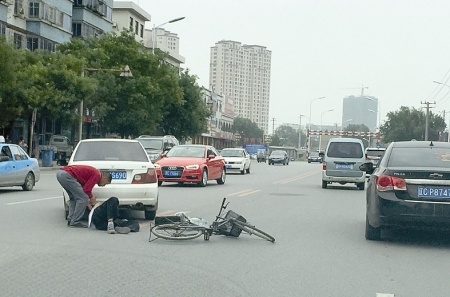falling: (79, 192, 146, 234)
